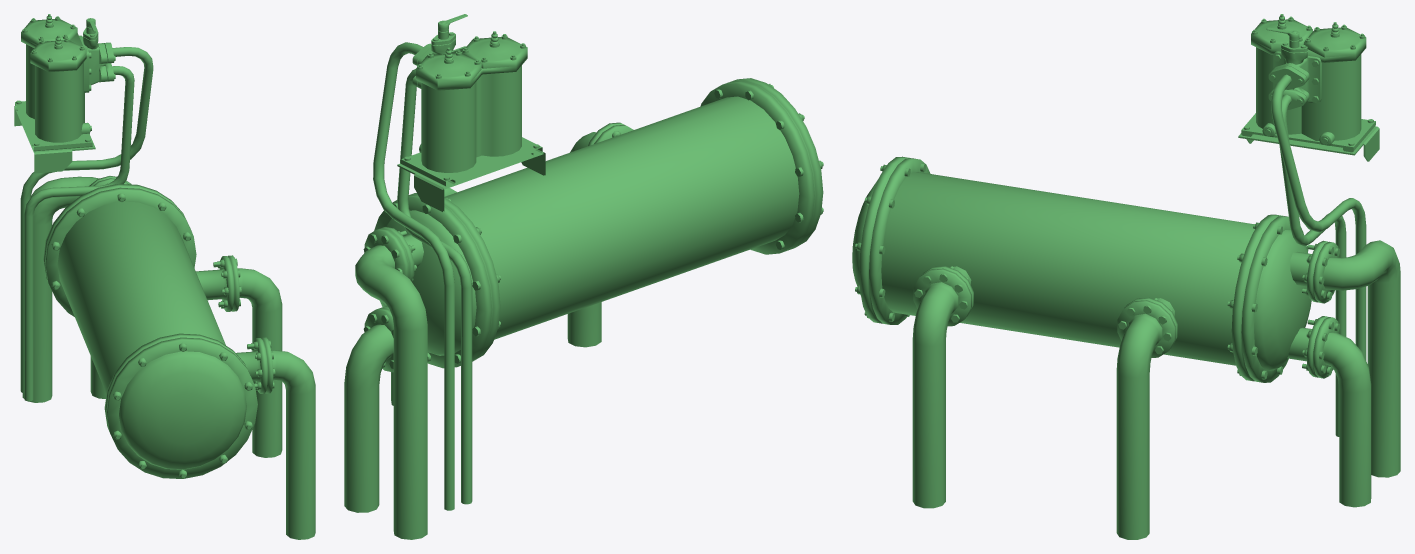
The model's file is Engine2.fbx.
3 renders of one model, left to right at view 1: azimuth 30°, elevation 25°; view 2: azimuth 150°, elevation 25°; view 3: azimuth 270°, elevation 25°, orthographic. The views are drawn at different scales.
Visible parts, largest first — view 1: EnStuff.003; view 2: EnStuff.003; view 3: EnStuff.003.
Part boxes in pixels (left/top/right/bottom): EnStuff.003: left=14, top=14, right=315, bottom=539; EnStuff.003: left=344, top=14, right=823, bottom=539; EnStuff.003: left=852, top=14, right=1400, bottom=539.
Size of the model in its own units: 104 by 148 by 165.
